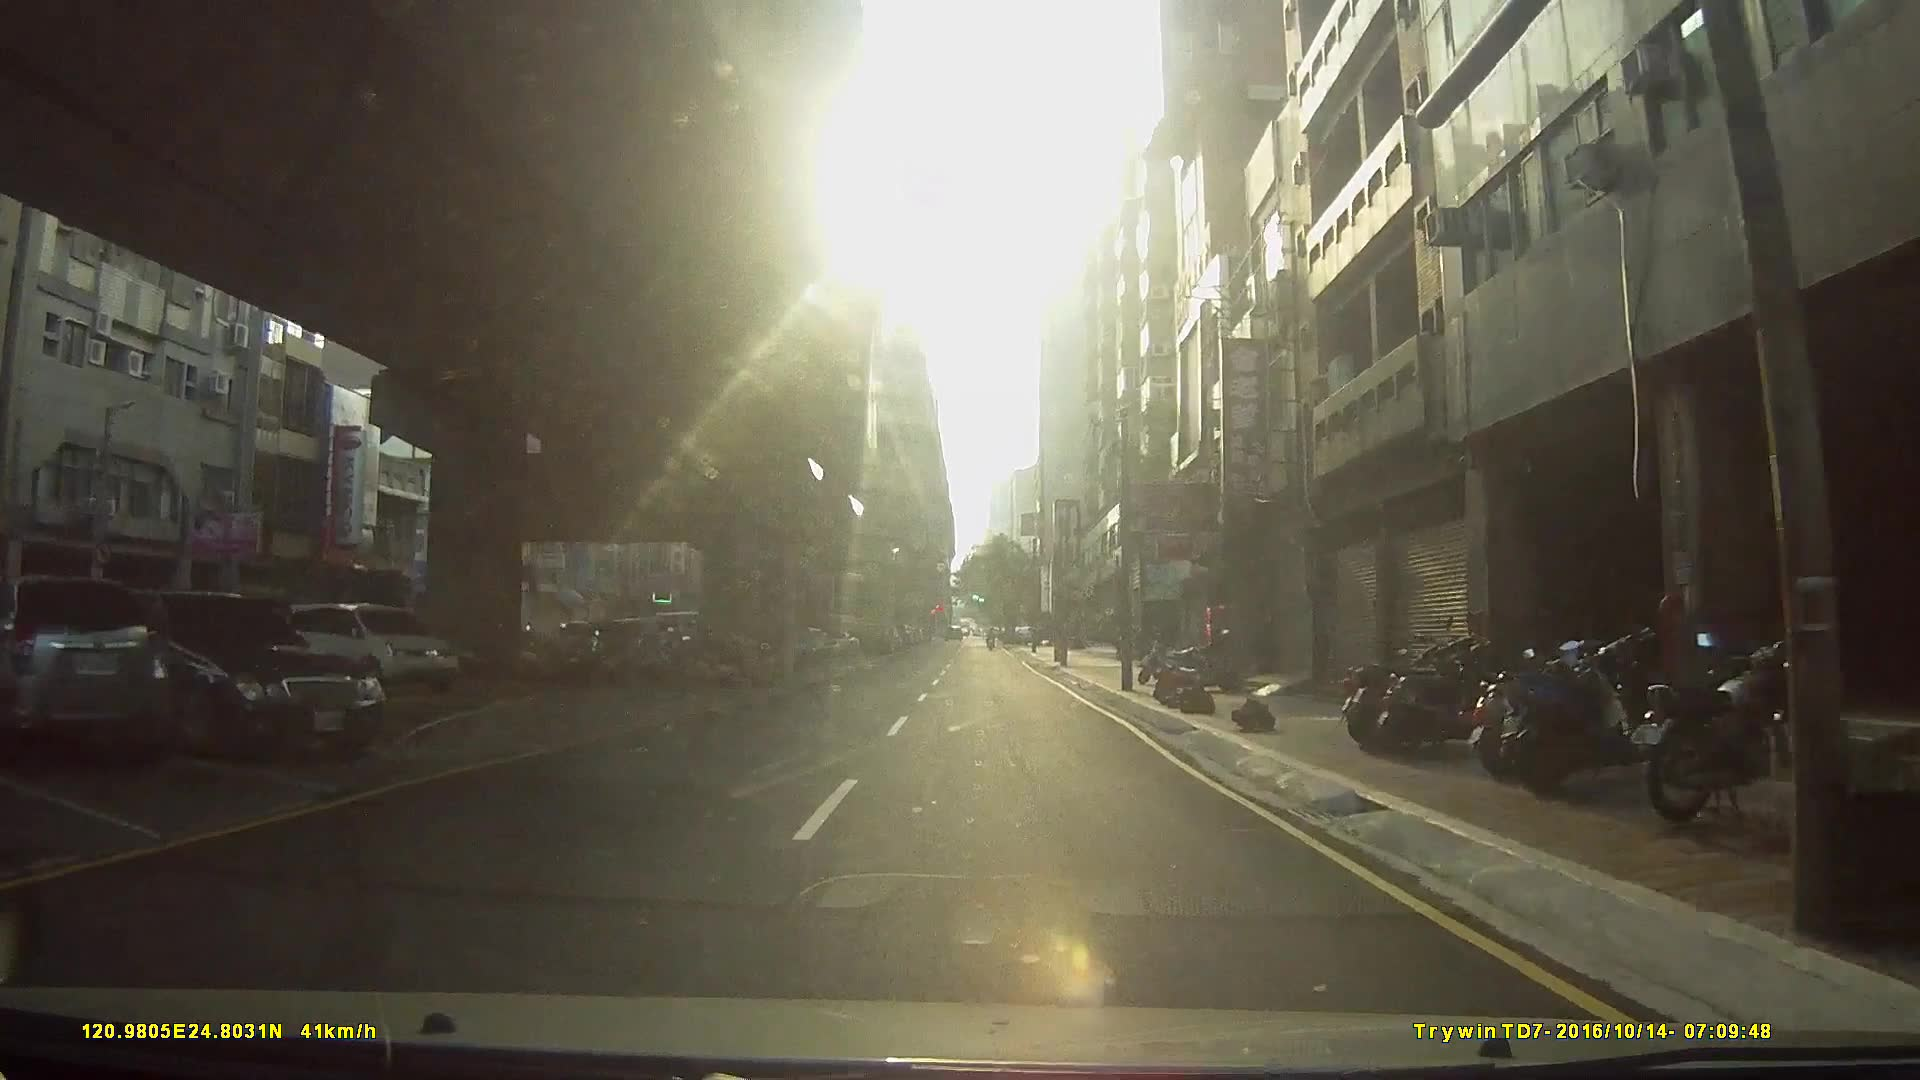vehicle: (73, 585, 384, 754), (4, 576, 162, 771), (280, 601, 456, 691)
